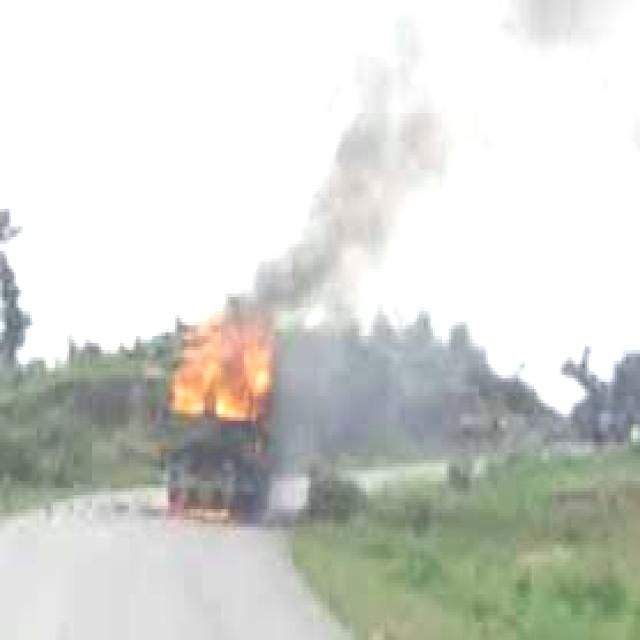fire: (154, 308, 292, 435)
